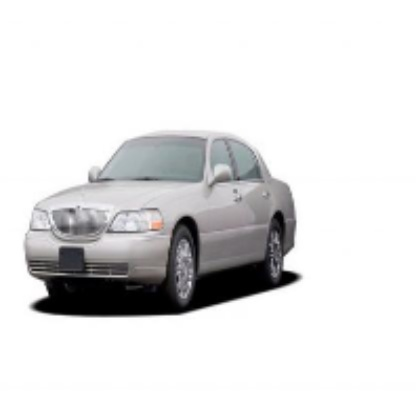Vehicle: (23, 124, 301, 319)
